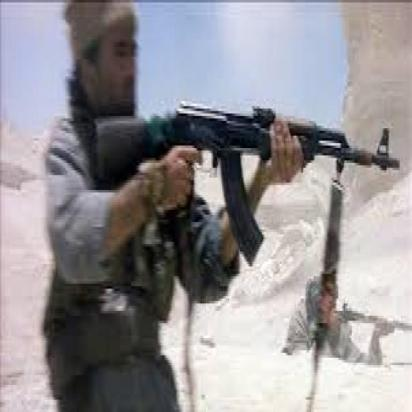Gun: (91, 96, 400, 271)
